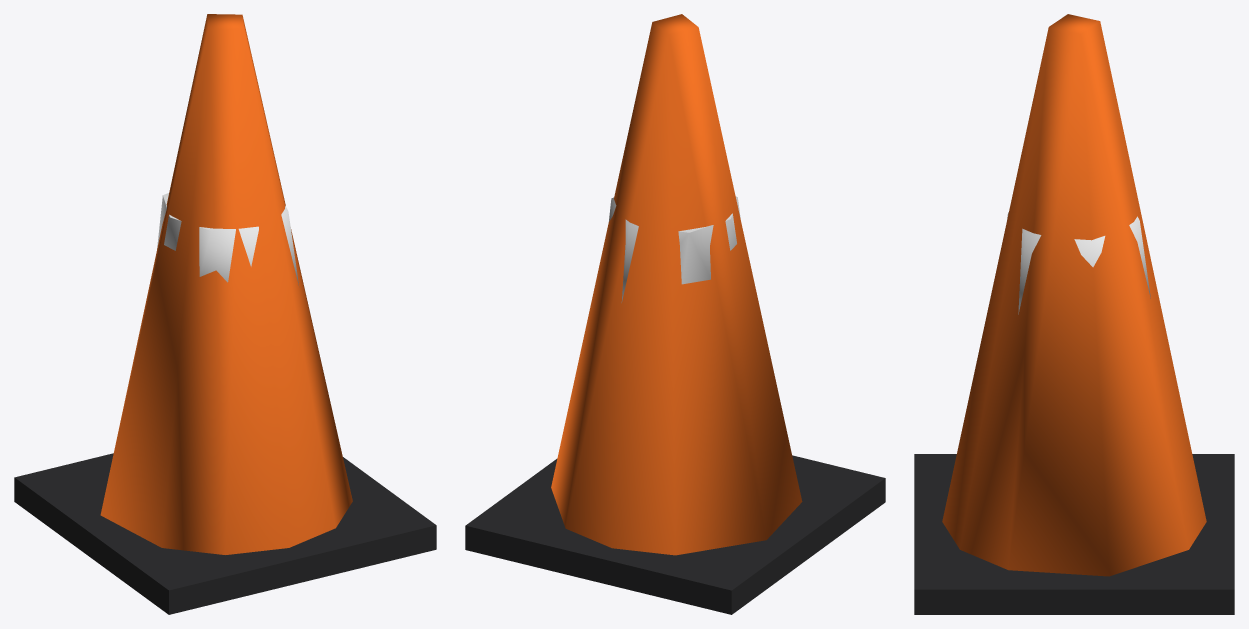
The picture shows the model from 3 angles, left to right: view 1: azimuth 30°, elevation 25°; view 2: azimuth 150°, elevation 25°; view 3: azimuth 270°, elevation 25°; orthographic projection. The views are drawn at different scales.
Parts seen in each view (by area): view 1: Body_LOD1; view 2: Body_LOD1; view 3: Body_LOD1.
Part boxes in pixels (x1,y1,x2,y2): Body_LOD1: [14, 14, 436, 614]; Body_LOD1: [465, 14, 885, 614]; Body_LOD1: [914, 14, 1234, 614].
Bounding box in the file's own units: 0.4 × 0.7203 × 0.4.
